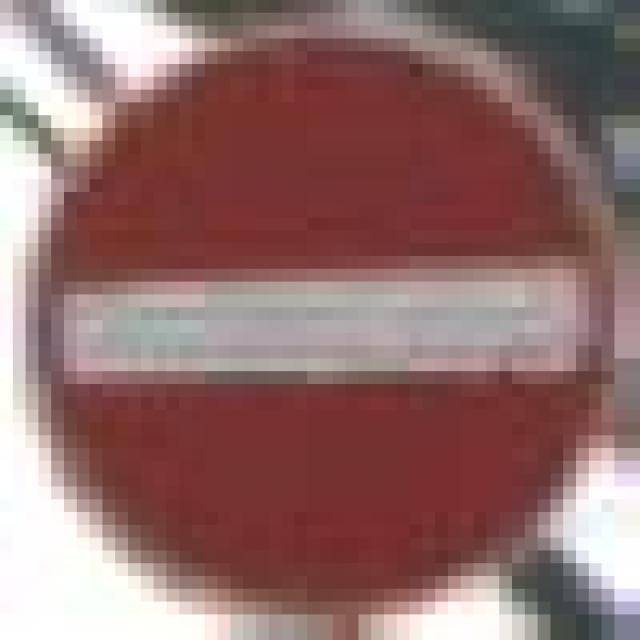no entry: (23, 31, 620, 594)
